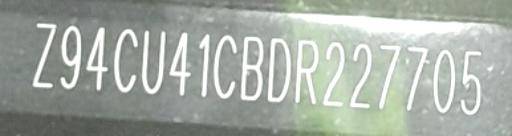letter: (28, 21, 58, 88), (112, 26, 138, 96), (168, 28, 194, 98), (459, 47, 485, 117), (58, 22, 84, 91), (140, 28, 166, 97), (212, 31, 238, 100), (293, 36, 319, 105), (404, 42, 430, 111), (239, 34, 265, 102), (83, 25, 109, 92), (266, 35, 292, 102), (348, 41, 374, 108), (431, 47, 457, 114), (320, 40, 346, 106), (376, 43, 402, 109), (196, 31, 210, 100)
